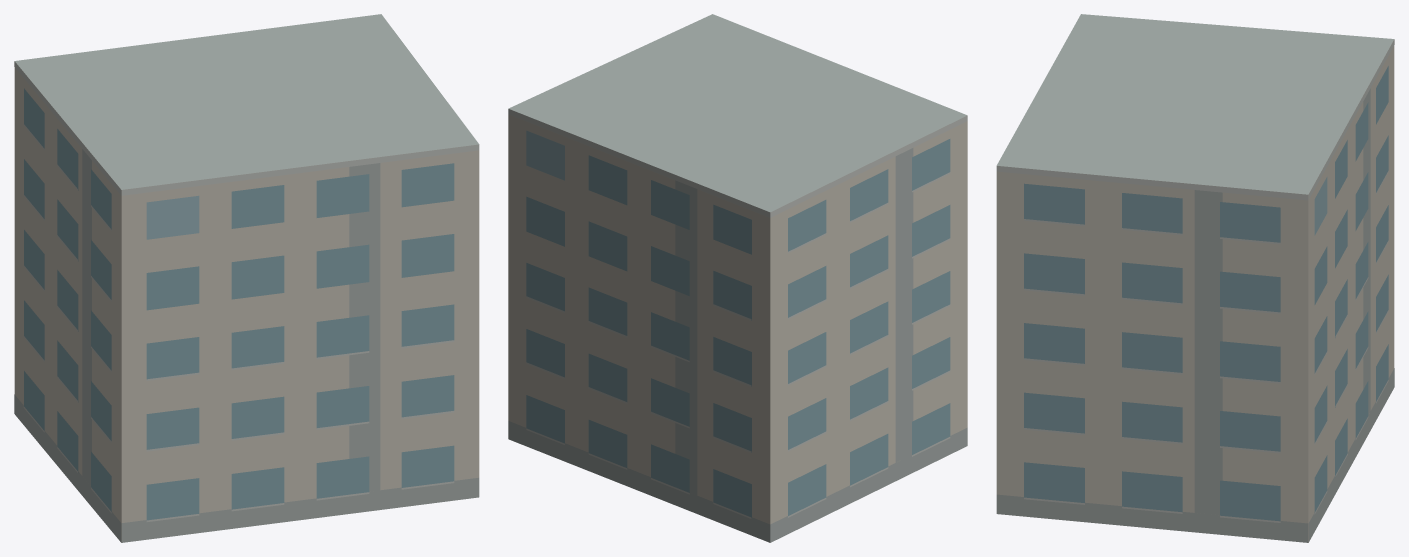
The model's file is survey-upis-32930031.glb.
3 views of the same model, side by side, from view 1: azimuth 30°, elevation 25°; view 2: azimuth 150°, elevation 25°; view 3: azimuth 270°, elevation 25° (orthographic). The views are drawn at different scales.
Parts seen in each view (by area): view 1: survey-upis-32930031.tmp; view 2: survey-upis-32930031.tmp; view 3: survey-upis-32930031.tmp.
Part boxes in pixels (left/top/right/bottom): survey-upis-32930031.tmp: left=14, top=14, right=479, bottom=542; survey-upis-32930031.tmp: left=508, top=14, right=967, bottom=542; survey-upis-32930031.tmp: left=996, top=14, right=1394, bottom=542.
Bounding box in the file's own units: 16.15 × 14.5 × 15.03.
